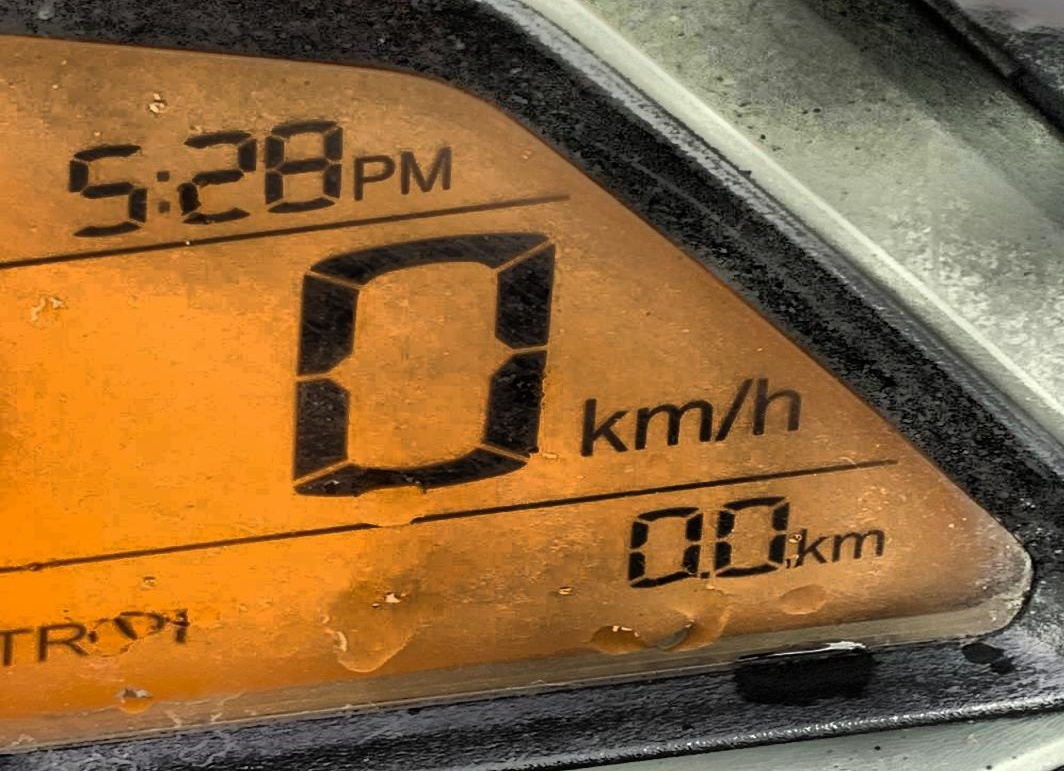-: (695, 564, 710, 584)
0: (286, 229, 559, 498), (621, 503, 697, 591), (713, 491, 786, 577)
2: (177, 130, 255, 224)
5: (66, 143, 149, 238)
8: (261, 119, 344, 214)
X: (632, 397, 712, 450), (575, 390, 628, 456), (752, 373, 802, 435), (397, 144, 453, 196), (711, 375, 750, 442), (826, 526, 887, 563), (35, 623, 87, 663), (352, 152, 394, 201), (792, 525, 825, 567), (0, 627, 31, 667), (151, 167, 173, 218)
